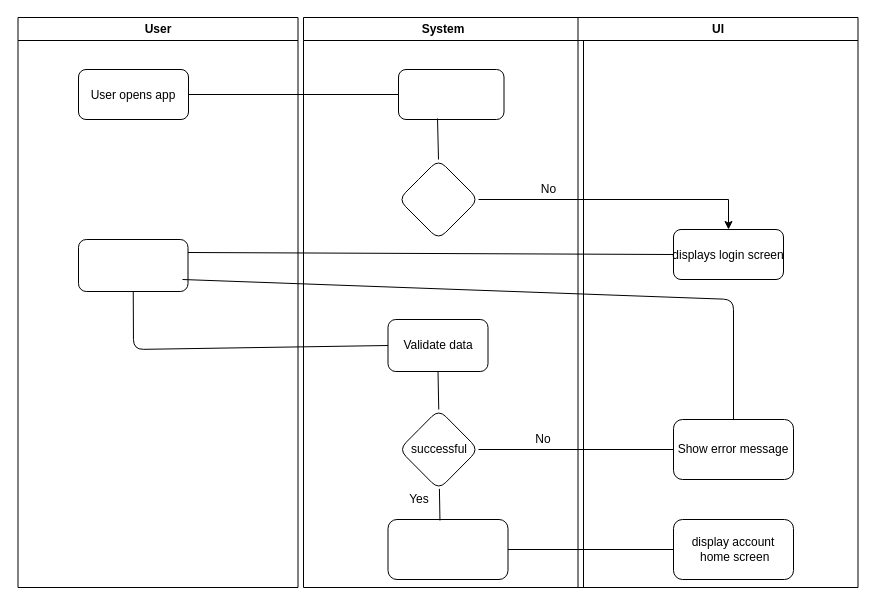
The diagram is 875 pixels wide and 605 high, and some of its shapes have lost their labels. The shapes that lost their labels are listed below. From the top down, each one's centre as x and y in pixels, then its label:
pixel 451 94: fetches data from database
pixel 438 199: Auto Login
pixel 133 265: enters login data
pixel 447 549: open account
